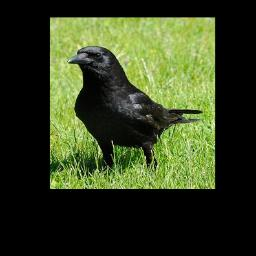Crow: (65, 44, 204, 172)
